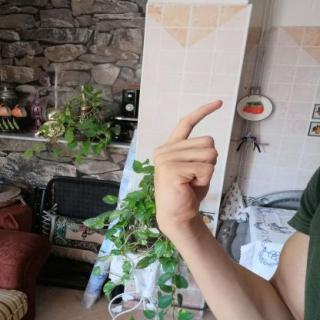RAA: (145, 94, 231, 235)
